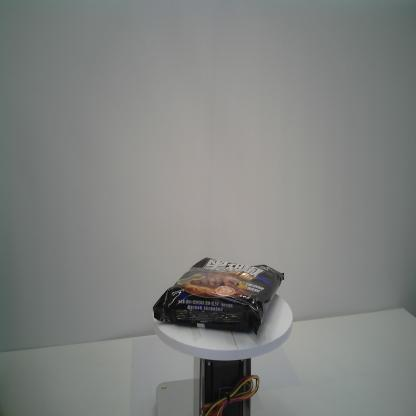Instant Noodles: (152, 255, 286, 337)
